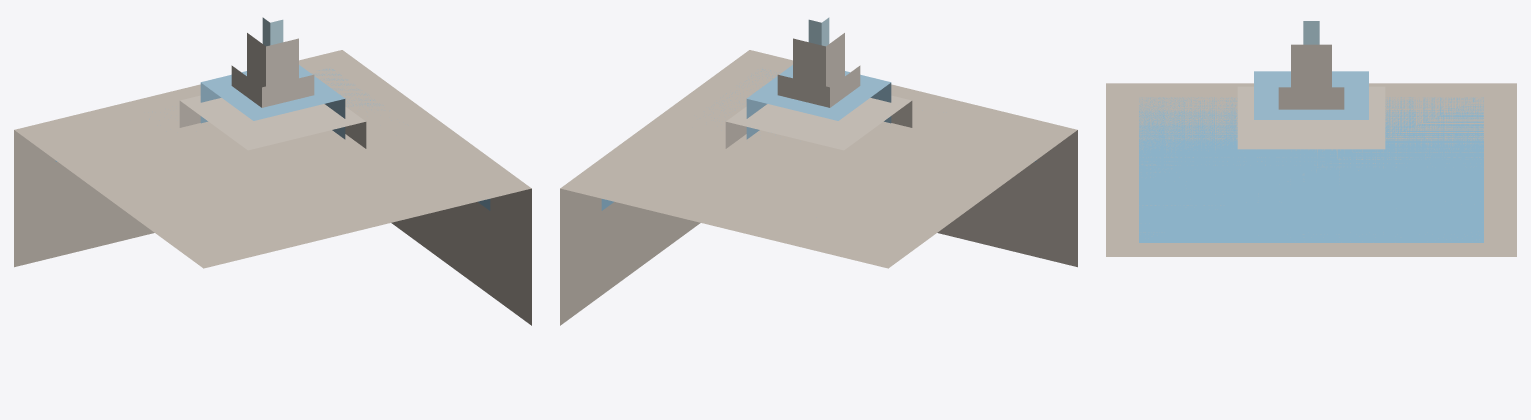
The model's file is fountain.glb.
3 renders of one model, left to right at view 1: azimuth 30°, elevation 25°; view 2: azimuth 150°, elevation 25°; view 3: azimuth 270°, elevation 25°, orthographic. The views are drawn at different scales.
Size of the model in its own units: 1 by 0.81 by 1.
